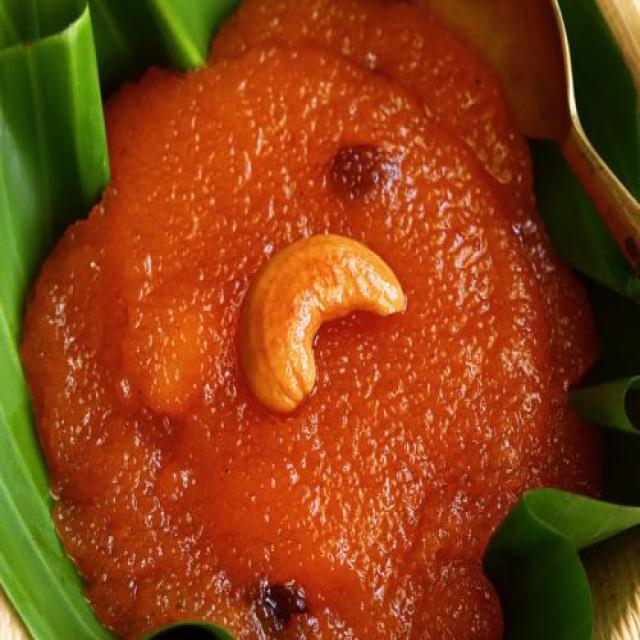kesari bath: (12, 0, 618, 640)
